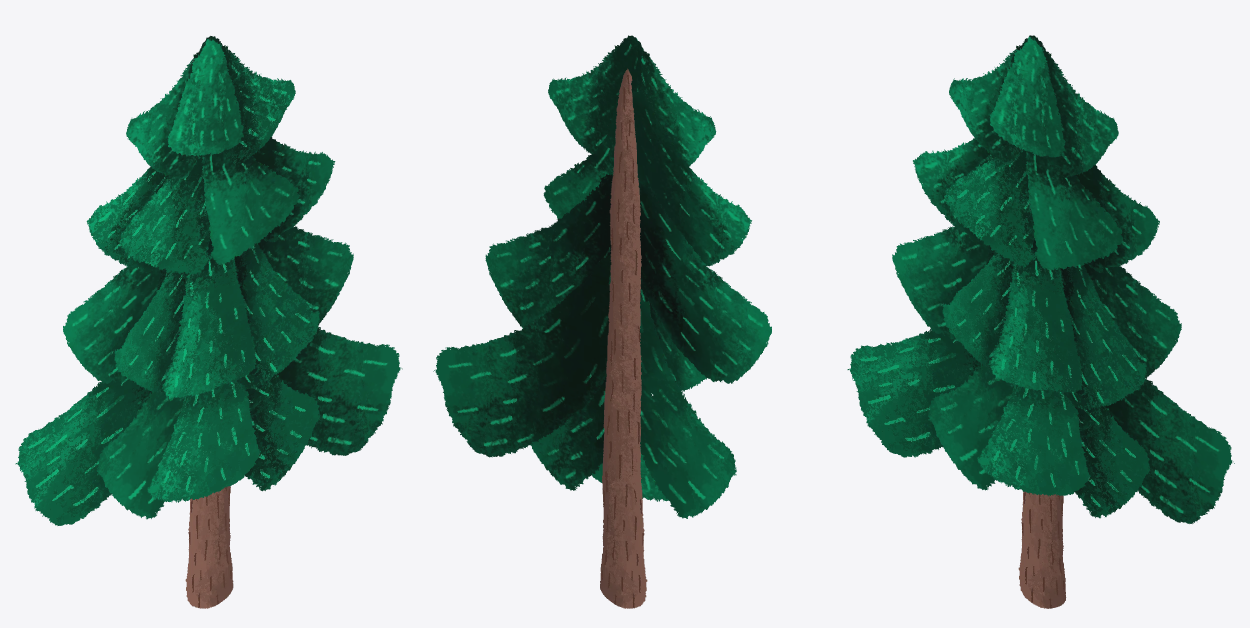
The model's file is tree_6.glb.
3 views of the same model, side by side, from view 1: azimuth 30°, elevation 25°; view 2: azimuth 150°, elevation 25°; view 3: azimuth 330°, elevation 25° (orthographic).
Parts seen in each view (by area): view 1: tree_6_green_1, tree_6_green_3, tree_6_green_5, tree_6_green_10, tree_6_green_14, tree_6_green_9, tree_6_green_12, tree_6_green_6, tree_6_green_2, tree_6_green_17, tree_6_green_4, tree_6_green_8 (+6 smaller); view 2: tree_6_green_3, Tree 6, tree_6_green_6, tree_6_green_2, tree_6_green_8, tree_6_green_11, tree_6_green_15, tree_6_green_4, tree_6_green_16, tree_6_green_14, tree_6_green_7, tree_6_green_5; view 3: tree_6_green_1, tree_6_green_3, tree_6_green_5, tree_6_green_10, tree_6_green_14, tree_6_green_9, tree_6_green_12, tree_6_green_6, tree_6_green_17, tree_6_green_2, tree_6_green_4, tree_6_green_8 (+6 smaller).
Part boxes in pixels (x1=…): tree_6_green_1: x1=15, y1=378, x2=151, y2=525; tree_6_green_3: x1=275, y1=327, x2=402, y2=455; tree_6_green_5: x1=147, y1=381, x2=260, y2=502; tree_6_green_10: x1=162, y1=232, x2=255, y2=400; tree_6_green_14: x1=201, y1=152, x2=299, y2=265; tree_6_green_9: x1=234, y1=243, x2=320, y2=389; tree_6_green_12: x1=119, y1=155, x2=210, y2=274; tree_6_green_6: x1=63, y1=267, x2=166, y2=383; tree_6_green_2: x1=97, y1=391, x2=185, y2=519; tree_6_green_17: x1=167, y1=39, x2=243, y2=156; tree_6_green_4: x1=245, y1=375, x2=319, y2=491; tree_6_green_8: x1=256, y1=226, x2=353, y2=325; tree_6_green_3: x1=433, y1=255, x2=611, y2=457; Tree 6: x1=600, y1=68, x2=647, y2=608; tree_6_green_6: x1=638, y1=182, x2=771, y2=383; tree_6_green_2: x1=640, y1=297, x2=736, y2=518; tree_6_green_8: x1=485, y1=174, x2=613, y2=327; tree_6_green_11: x1=632, y1=88, x2=751, y2=266; tree_6_green_15: x1=548, y1=35, x2=642, y2=154; tree_6_green_4: x1=529, y1=374, x2=606, y2=490; tree_6_green_16: x1=627, y1=35, x2=716, y2=166; tree_6_green_14: x1=543, y1=97, x2=618, y2=218; tree_6_green_7: x1=640, y1=286, x2=709, y2=391; tree_6_green_5: x1=592, y1=448, x2=669, y2=501; tree_6_green_1: x1=847, y1=328, x2=982, y2=457; tree_6_green_3: x1=1104, y1=378, x2=1234, y2=523; tree_6_green_5: x1=977, y1=384, x2=1090, y2=496; tree_6_green_10: x1=988, y1=231, x2=1082, y2=394; tree_6_green_14: x1=1025, y1=151, x2=1122, y2=270; tree_6_green_9: x1=1060, y1=264, x2=1146, y2=410; tree_6_green_12: x1=944, y1=149, x2=1034, y2=268; tree_6_green_6: x1=892, y1=226, x2=996, y2=339; tree_6_green_17: x1=989, y1=37, x2=1065, y2=157; tree_6_green_2: x1=928, y1=364, x2=1014, y2=490; tree_6_green_4: x1=1074, y1=405, x2=1150, y2=518; tree_6_green_8: x1=1083, y1=263, x2=1181, y2=378.
Bounding box in the file's own units: 2.91 × 4.12 × 0.0714.
18 materials, 18 textured.
